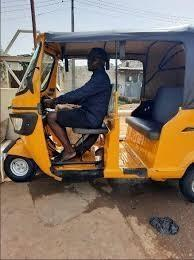keke: (11, 26, 194, 204)
